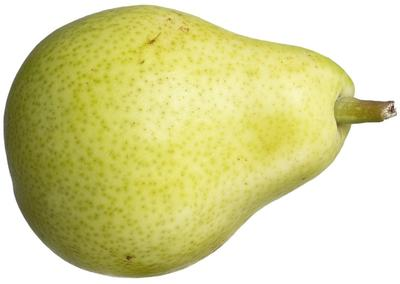pear: (0, 0, 400, 284)
